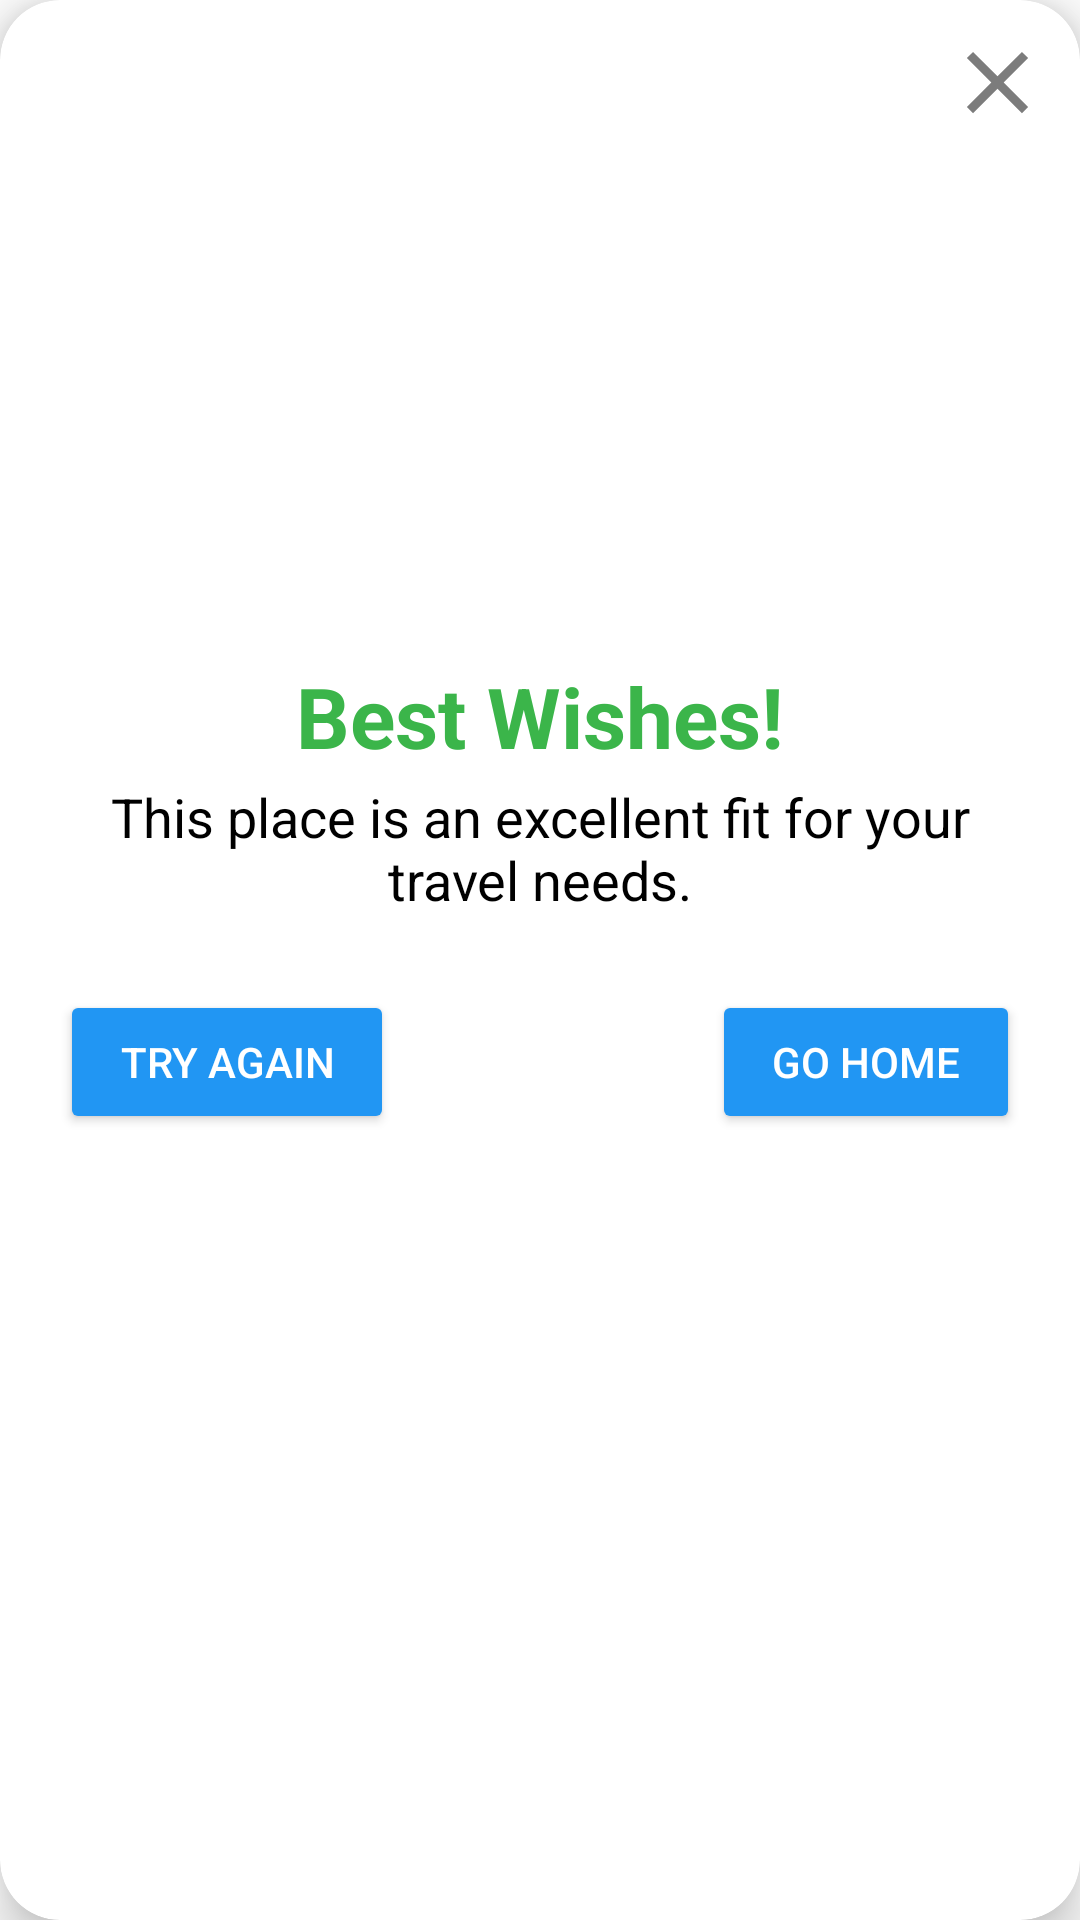

Icons on this 1080*1920 Android screen, each with the point to tap as (x,y):
close: (997,82)
